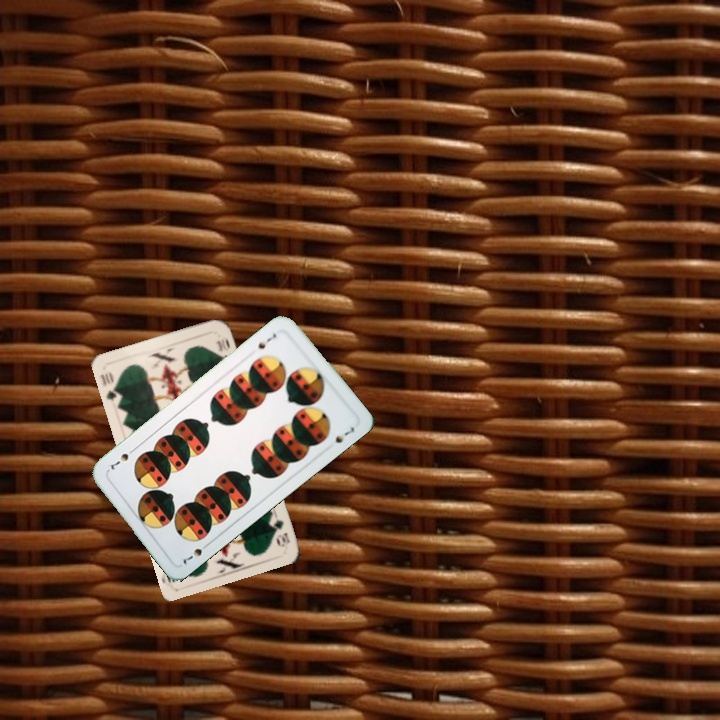G10: (96, 368, 124, 405), (269, 515, 292, 550)
S7: (179, 539, 212, 568), (254, 329, 279, 352)
